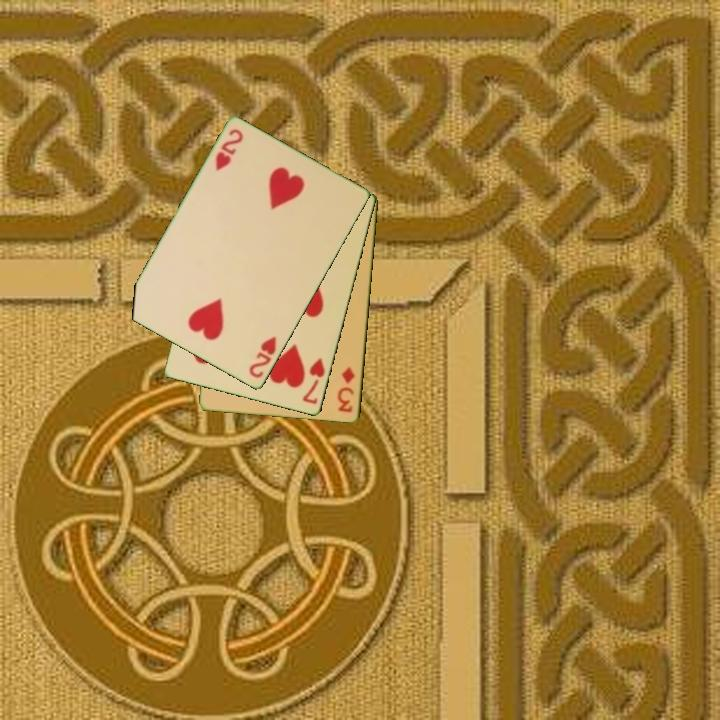2h: (212, 125, 246, 174), (246, 333, 279, 382)
3d: (335, 363, 358, 415)
7h: (299, 354, 328, 408)
